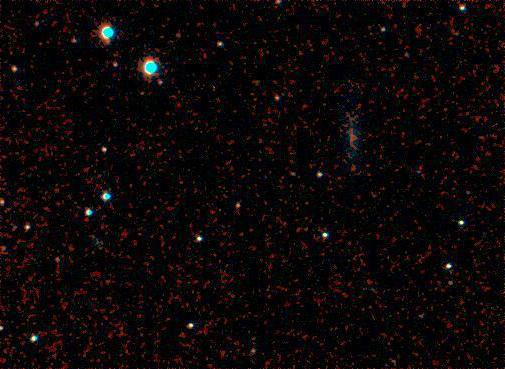star: (129, 83, 159, 113)
